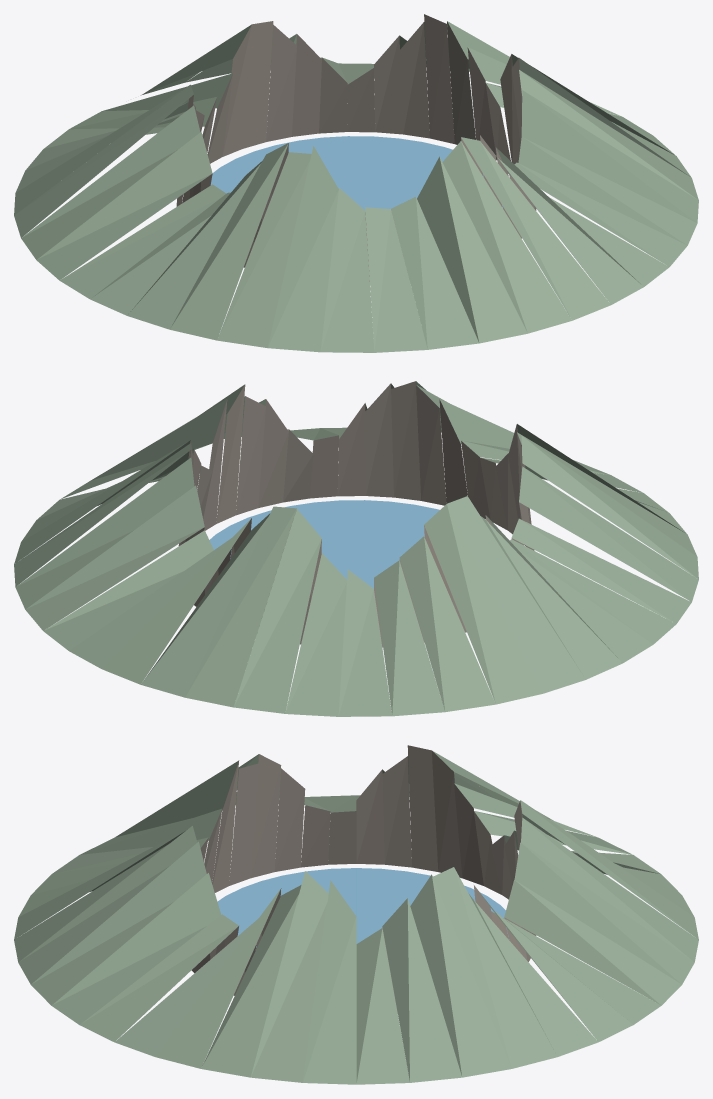
The model's file is mountain_caldera_lake.glb.
The picture shows the model from 3 angles, top to bottom: view 1: azimuth 30°, elevation 25°; view 2: azimuth 150°, elevation 25°; view 3: azimuth 270°, elevation 25°; orthographic projection.
Visible parts, largest first — view 1: mountain_caldera_lake; view 2: mountain_caldera_lake; view 3: mountain_caldera_lake.
Part boxes in pixels (left/top/right/bottom): mountain_caldera_lake: left=14, top=14, right=698, bottom=352; mountain_caldera_lake: left=14, top=381, right=698, bottom=716; mountain_caldera_lake: left=14, top=745, right=698, bottom=1084.
Bounding box in the file's own units: 532 × 116 × 532.
